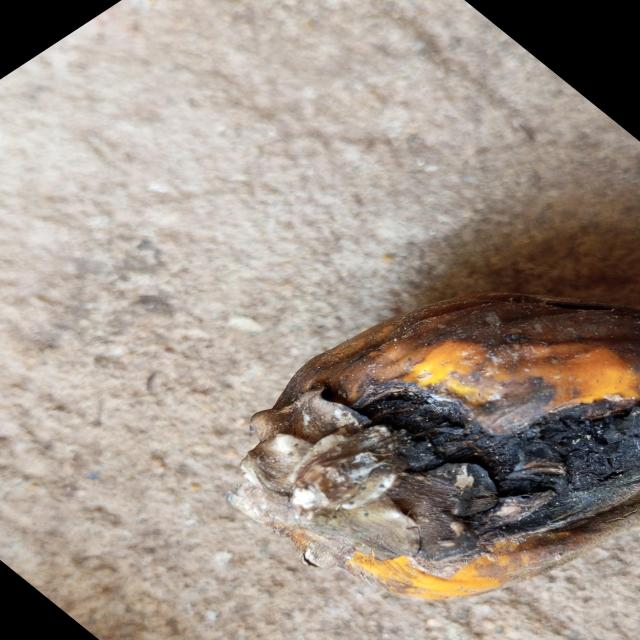damaged: (227, 295, 640, 600)
